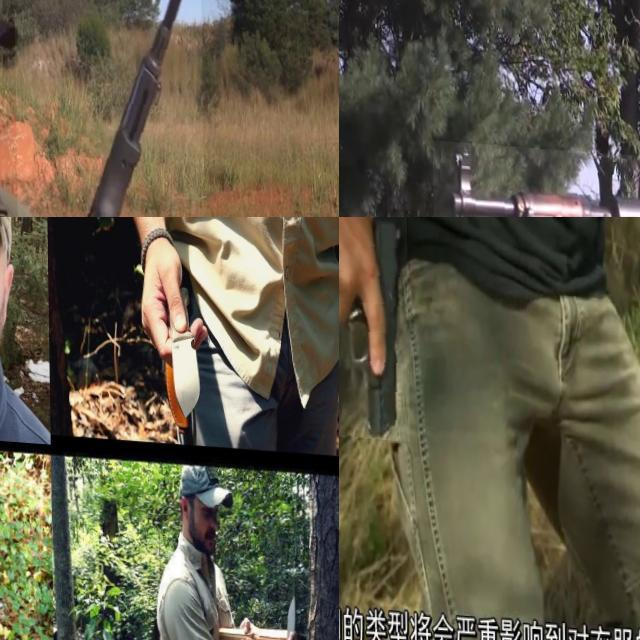-: (0, 217, 77, 336), (148, 284, 208, 418), (277, 580, 303, 640)
gun-knife-thesis - v11 Yolov5 augmented: (13, 0, 206, 217), (432, 138, 640, 217), (339, 217, 409, 437)
